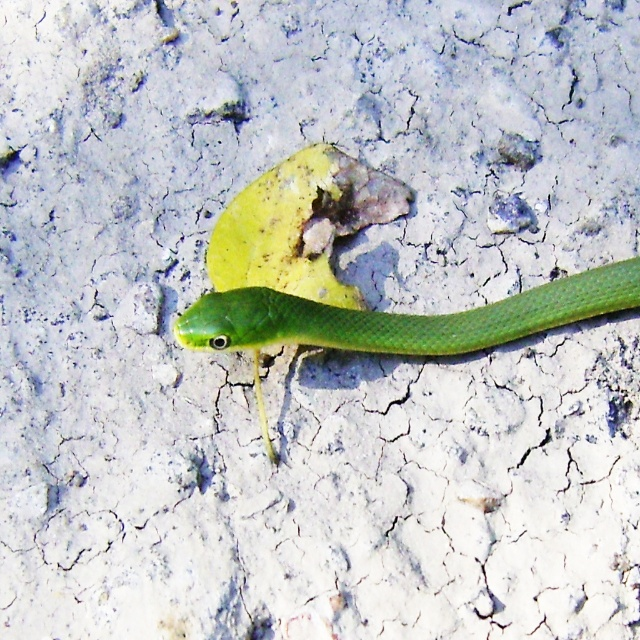Snake: (172, 258, 639, 353)
